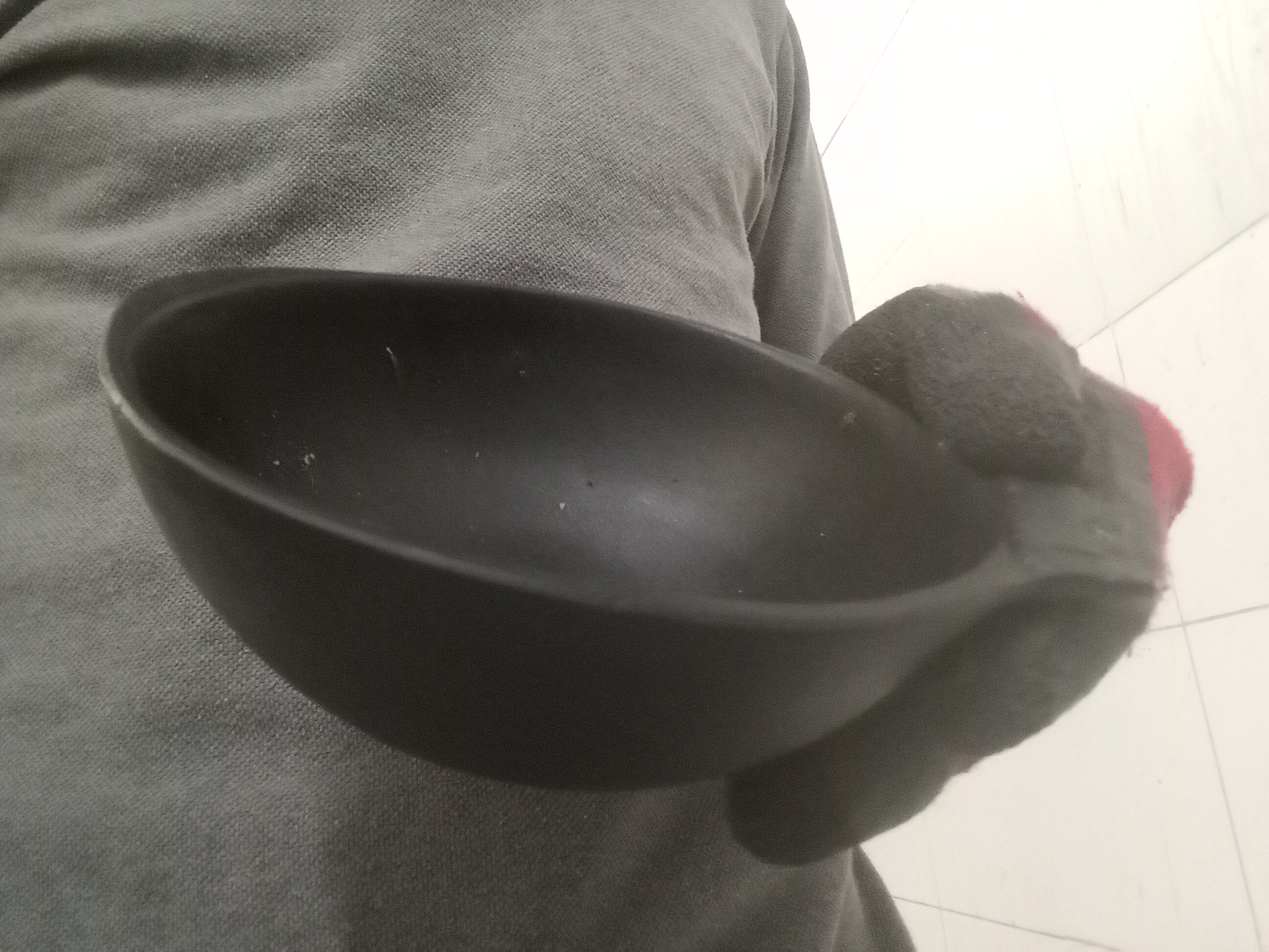Ordinario: (92, 268, 986, 787)
